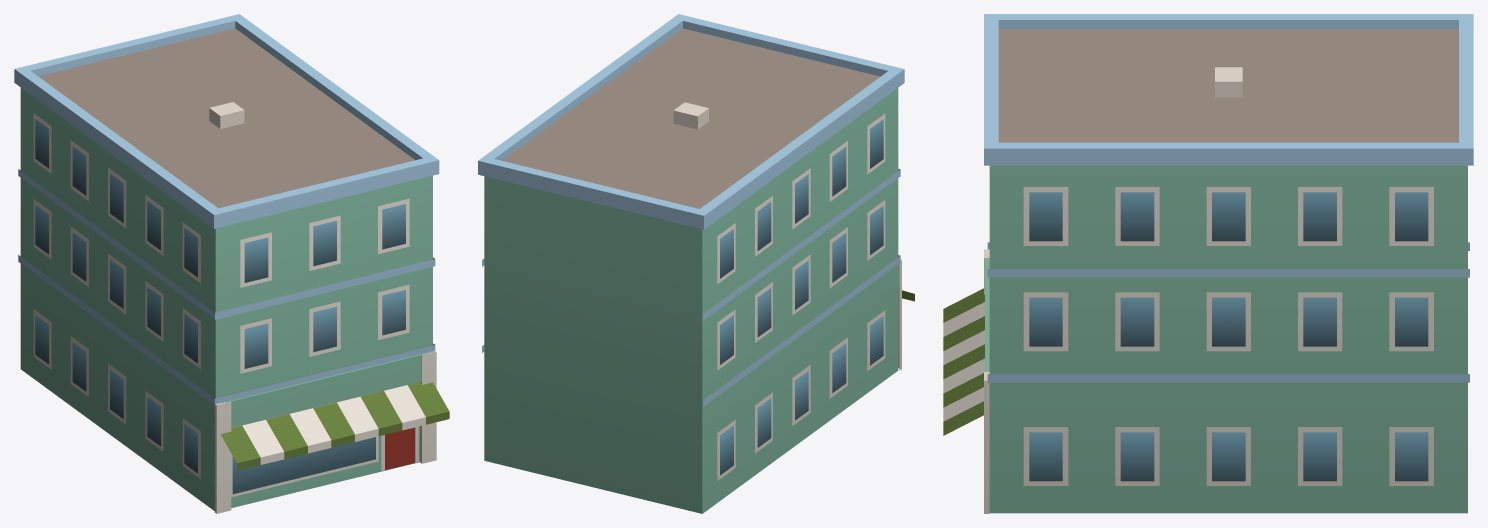
The model's file is boylston_s8_far.glb.
The picture shows the model from 3 angles, left to right: view 1: azimuth 30°, elevation 25°; view 2: azimuth 150°, elevation 25°; view 3: azimuth 270°, elevation 25°; orthographic projection. The views are drawn at different scales.
Parts seen in each view (by area): view 1: boylston_s8_far; view 2: boylston_s8_far; view 3: boylston_s8_far.
Boxes of the visible parts, x1=… form: boylston_s8_far: x1=14, y1=14, x2=449, y2=513; boylston_s8_far: x1=478, y1=14, x2=914, y2=513; boylston_s8_far: x1=943, y1=14, x2=1473, y2=513.
Bounding box in the file's own units: 9.32 × 12.07 × 15.51.
Materials: 1 (1 with a texture image).
